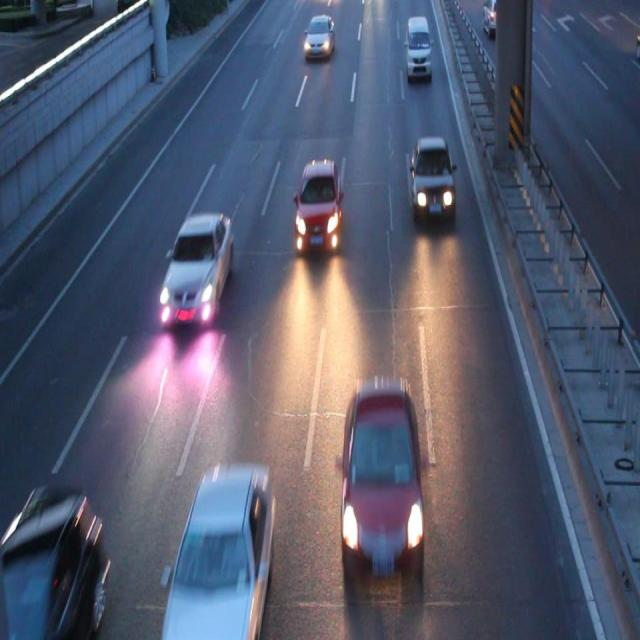car: (168, 466, 274, 626), (1, 488, 106, 640), (340, 378, 422, 570), (162, 212, 232, 324), (296, 160, 340, 250), (410, 140, 453, 218), (304, 16, 334, 54), (481, 1, 512, 36)
truck: (404, 16, 430, 80)
